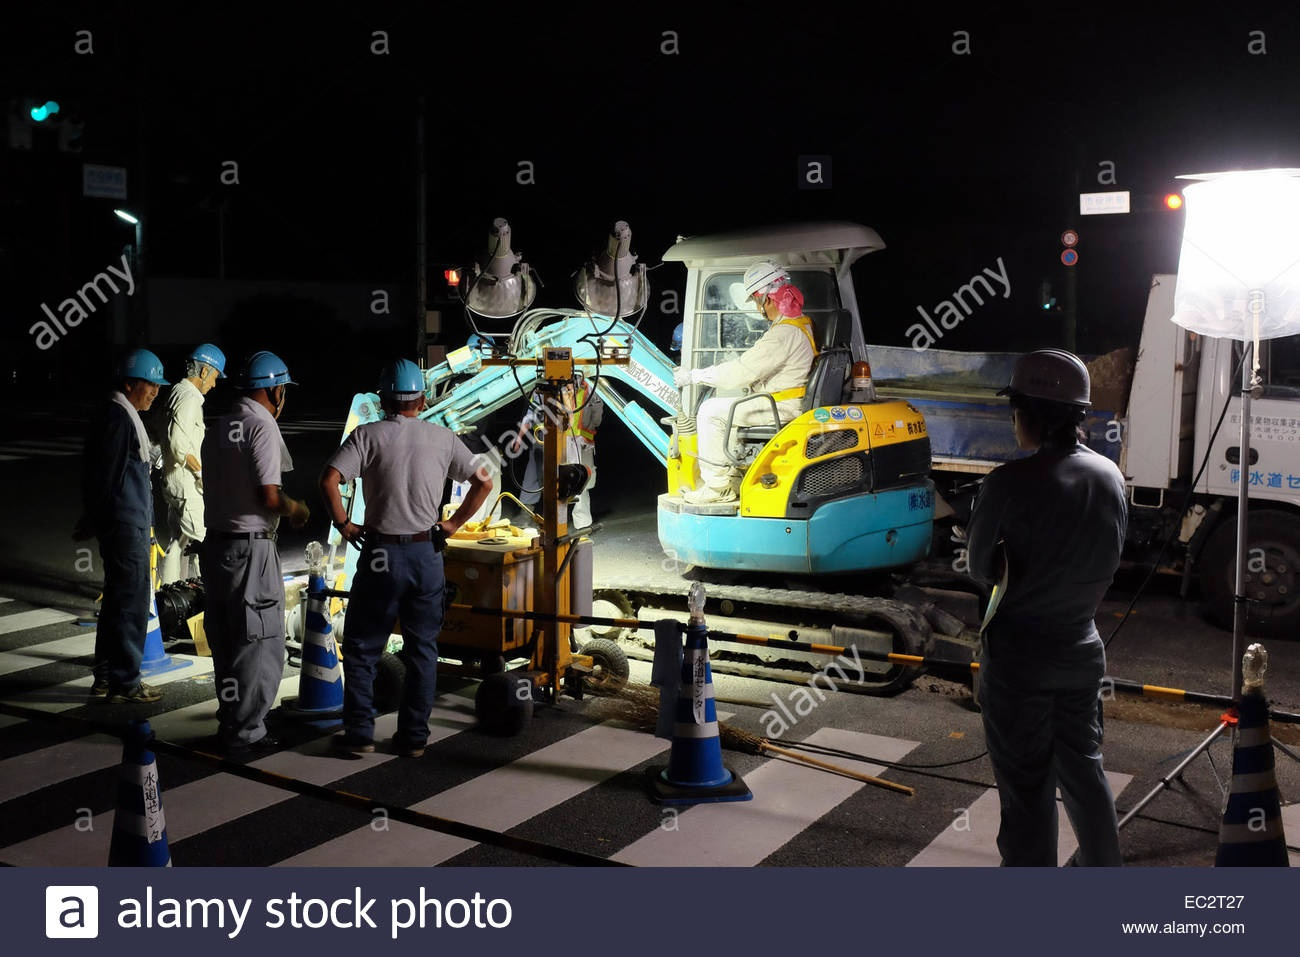blue: (105, 343, 164, 412), (236, 347, 294, 416), (376, 357, 434, 415), (182, 339, 227, 392)
white: (1001, 347, 1096, 444), (743, 259, 791, 316)
